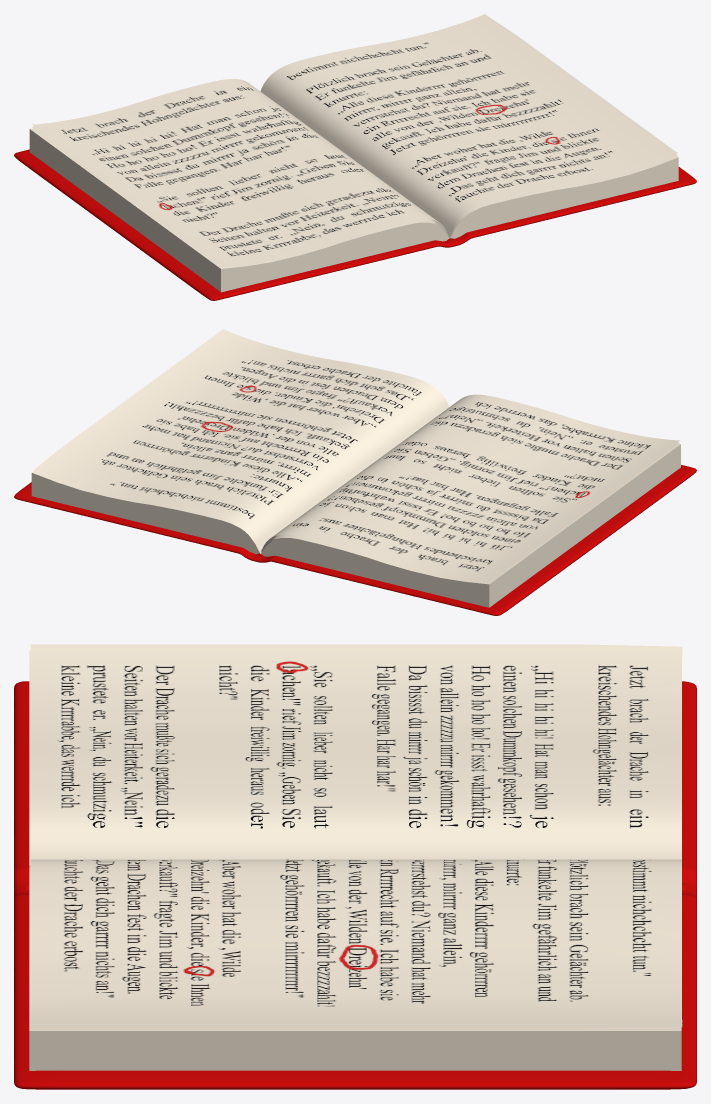
Rendered from redBook.fbx.
The picture shows the model from 3 angles, top to bottom: view 1: azimuth 30°, elevation 25°; view 2: azimuth 150°, elevation 25°; view 3: azimuth 270°, elevation 25°; orthographic projection. The views are drawn at different scales.
Parts seen in each view (by area): view 1: page_top_right, page_top_left, lower_left, Book_Cover_base, lower_right, page_top_left_2, page_top_right_2; view 2: page_top_right, page_top_left, lower_left, Book_Cover_base, lower_right, page_top_left_2, page_top_right_2; view 3: page_top_left, page_top_right, lower_right, Book_Cover_base, page_top_right_2.
Boxes of the visible parts, box(x1,y1,x2,y2) form: page_top_right: box(260, 14, 677, 237); page_top_left: box(32, 79, 449, 264); lower_left: box(29, 128, 449, 292); Book_Cover_base: box(14, 149, 696, 300); lower_right: box(449, 156, 678, 238); page_top_left_2: box(32, 126, 447, 266); page_top_right_2: box(450, 154, 677, 236); page_top_right: box(34, 329, 449, 552); page_top_left: box(261, 394, 679, 580); lower_left: box(261, 444, 680, 607); Book_Cover_base: box(14, 465, 696, 615); lower_right: box(31, 470, 259, 554); page_top_left_2: box(261, 442, 679, 582); page_top_right_2: box(34, 471, 260, 553); page_top_left: box(30, 644, 682, 859); page_top_right: box(30, 859, 682, 1024); lower_right: box(29, 865, 681, 1070); Book_Cover_base: box(14, 681, 696, 1089); page_top_right_2: box(30, 1023, 682, 1028).
Bounding box in the file's own units: 101 × 7.04 × 71.91.
Materials: 3 (2 with a texture image).
